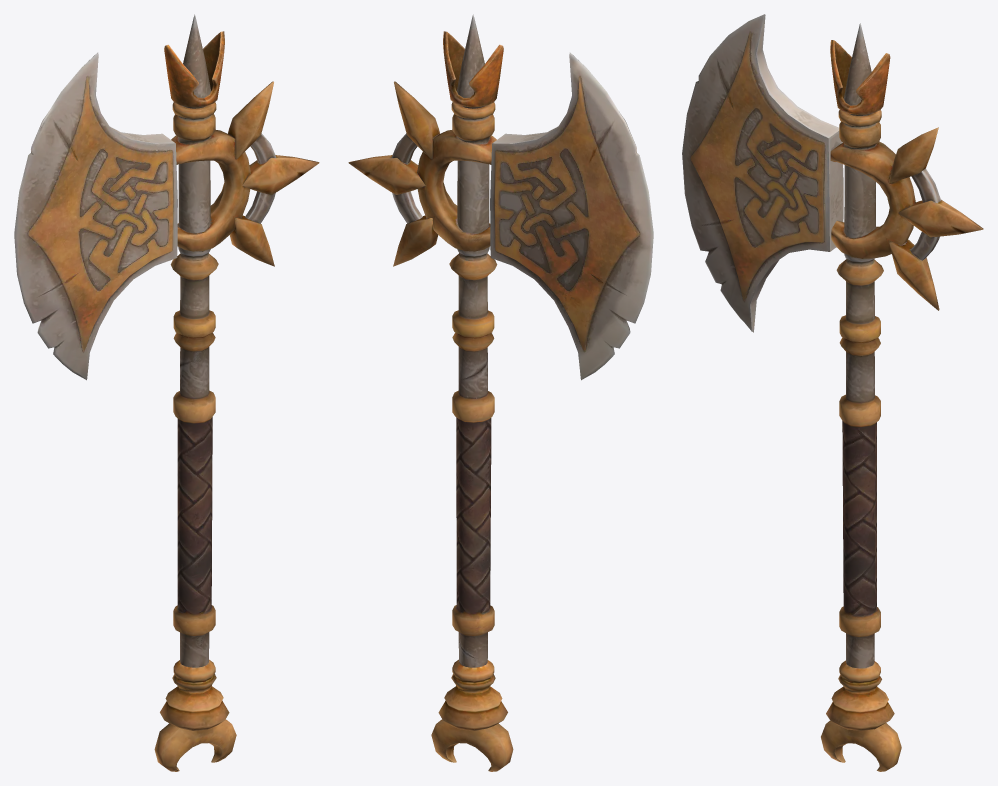
The picture shows the model from 3 angles, left to right: view 1: azimuth 30°, elevation 25°; view 2: azimuth 150°, elevation 25°; view 3: azimuth 330°, elevation 25°; orthographic projection.
Visible parts, largest first — view 1: SM_M_LRG_Beast_Thane_Axe_01_LOD0; view 2: SM_M_LRG_Beast_Thane_Axe_01_LOD0; view 3: SM_M_LRG_Beast_Thane_Axe_01_LOD0.
Boxes of the visible parts, x1=… form: SM_M_LRG_Beast_Thane_Axe_01_LOD0: x1=14, y1=14, x2=319, y2=771; SM_M_LRG_Beast_Thane_Axe_01_LOD0: x1=348, y1=14, x2=653, y2=771; SM_M_LRG_Beast_Thane_Axe_01_LOD0: x1=682, y1=14, x2=983, y2=771.
Size of the model in its own units: 0.9802 by 2.31 by 0.1944.
Materials: 1 (1 with a texture image).
